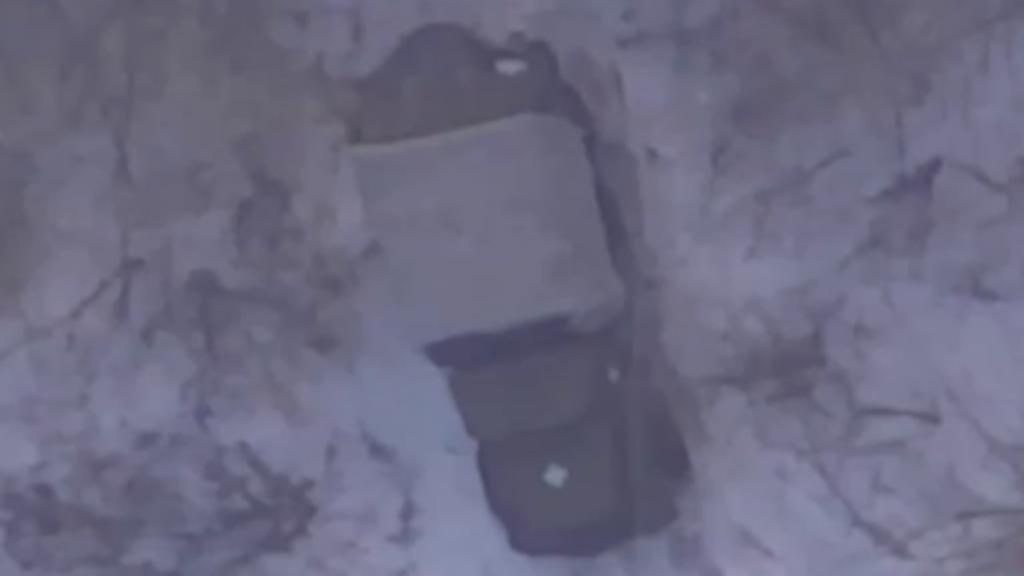TRUCK: (348, 56, 660, 548)
